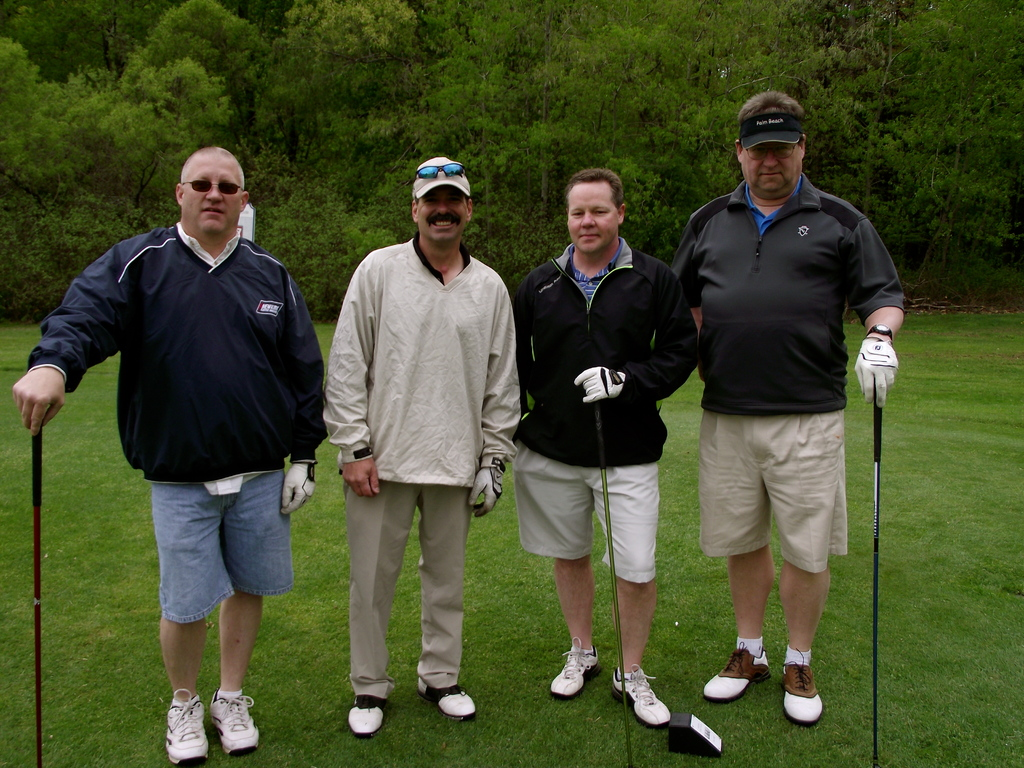Tree: (0, 0, 1023, 320)
